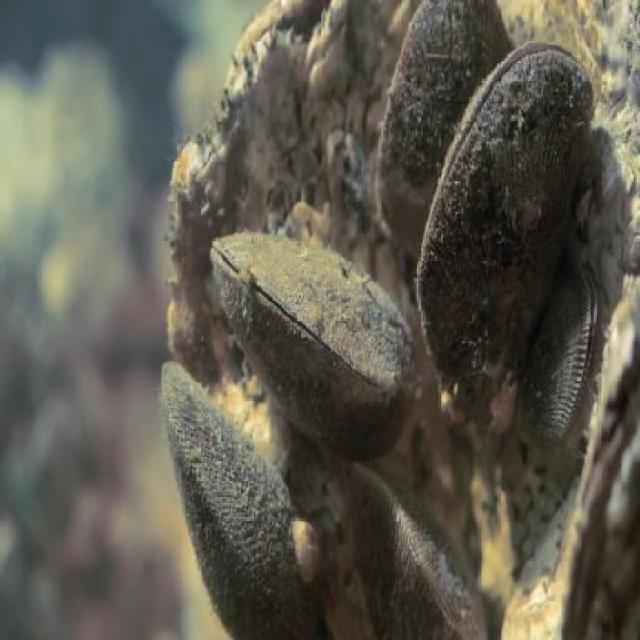Oyster-Closed: (413, 40, 598, 431), (209, 232, 417, 464), (347, 465, 490, 638), (568, 393, 638, 638), (517, 258, 599, 455)
Oyster-Indeterminate: (161, 360, 317, 638), (377, 0, 512, 257)
